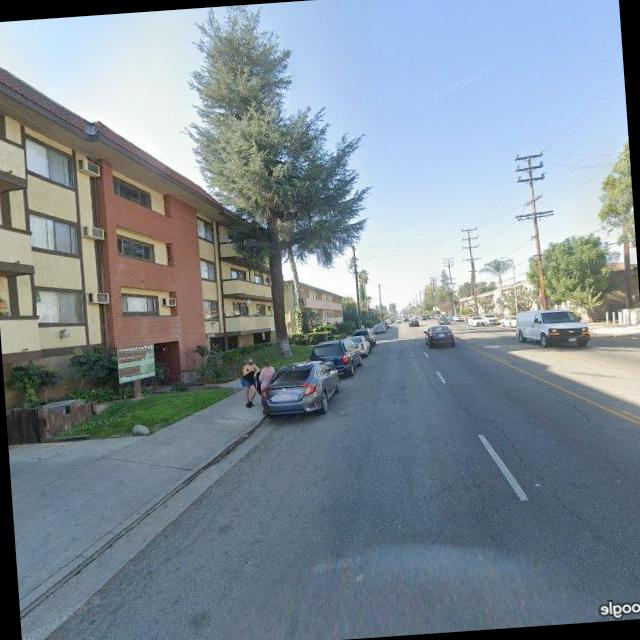pothole: (444, 369, 622, 577), (448, 447, 502, 556), (546, 383, 604, 432)
